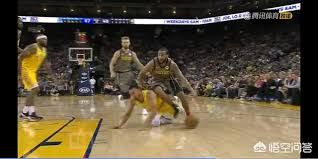10+: (17, 2, 299, 132)
down: (109, 81, 198, 131)
